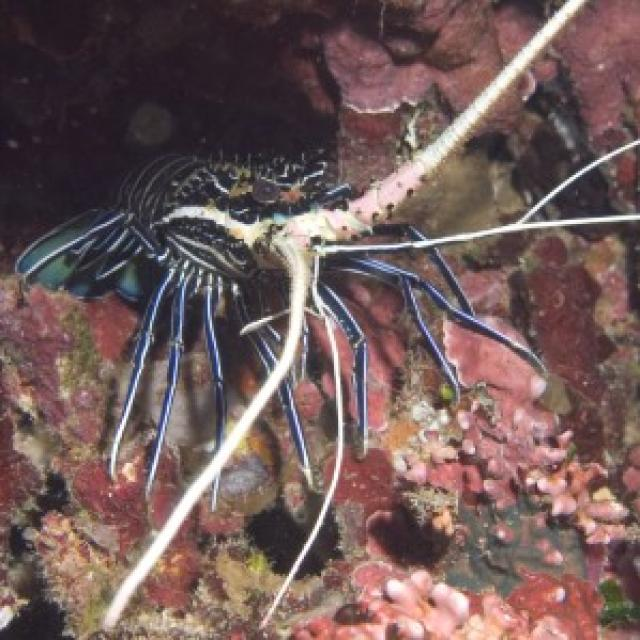lobsters: (2, 61, 506, 434)
